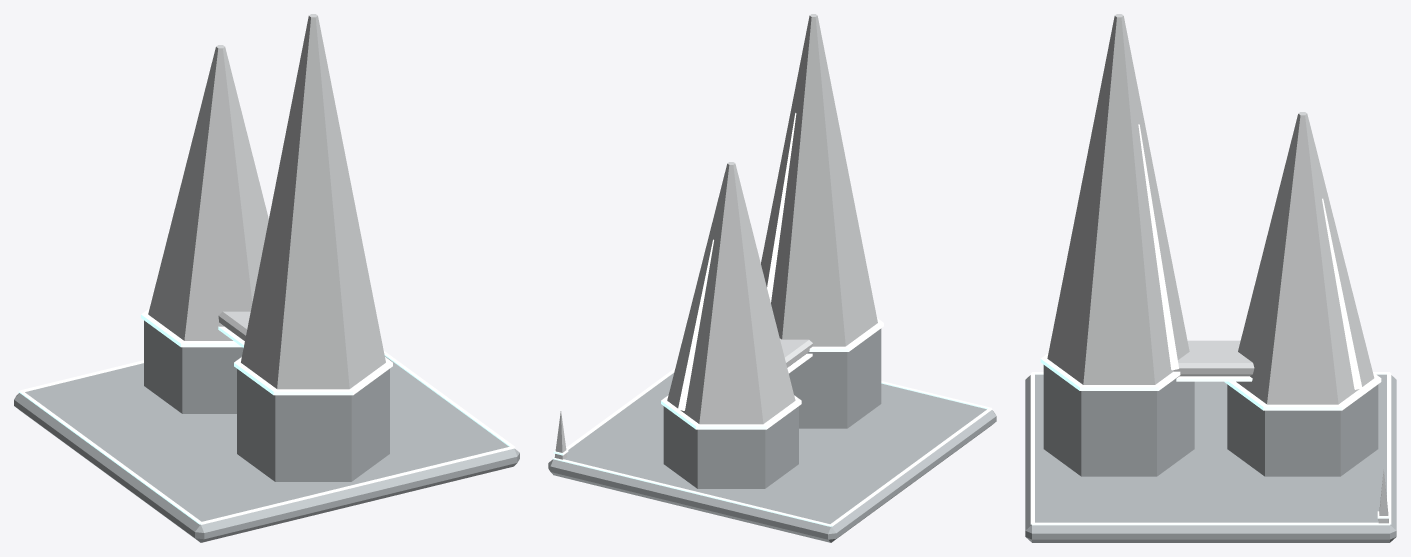
File: zone_high_6_t1.glb
The picture shows the model from 3 angles, left to right: view 1: azimuth 30°, elevation 25°; view 2: azimuth 150°, elevation 25°; view 3: azimuth 270°, elevation 25°; orthographic projection. The views are drawn at different scales.
Parts seen in each view (by area): view 1: zone_high_6_t1, detail; view 2: zone_high_6_t1, detail; view 3: zone_high_6_t1, detail.
Boxes of the visible parts, x1,y1,x2,y2 form: zone_high_6_t1: [14, 14, 519, 542]; detail: [18, 351, 515, 524]; zone_high_6_t1: [548, 14, 996, 542]; detail: [552, 368, 992, 526]; zone_high_6_t1: [1025, 14, 1396, 542]; detail: [1030, 372, 1391, 525].
Bounding box in the file's own units: 27.5 × 36.93 × 27.5.
